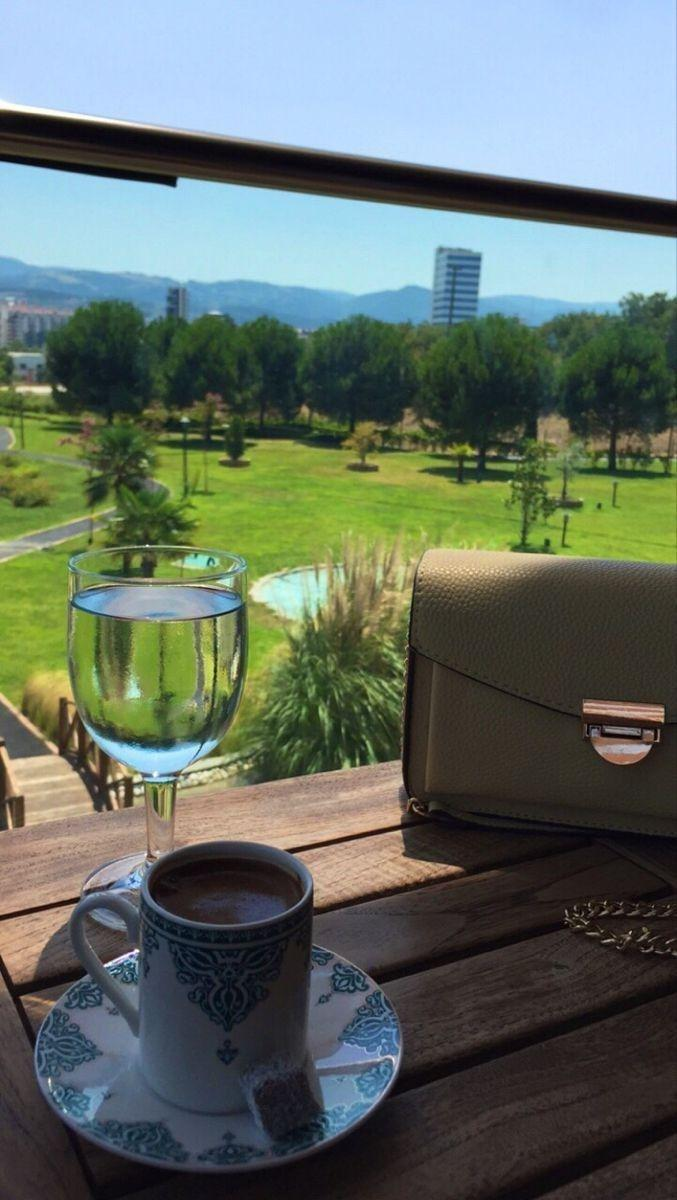cup-handle: (68, 841, 318, 1116)
glass-wine: (68, 543, 257, 934)
